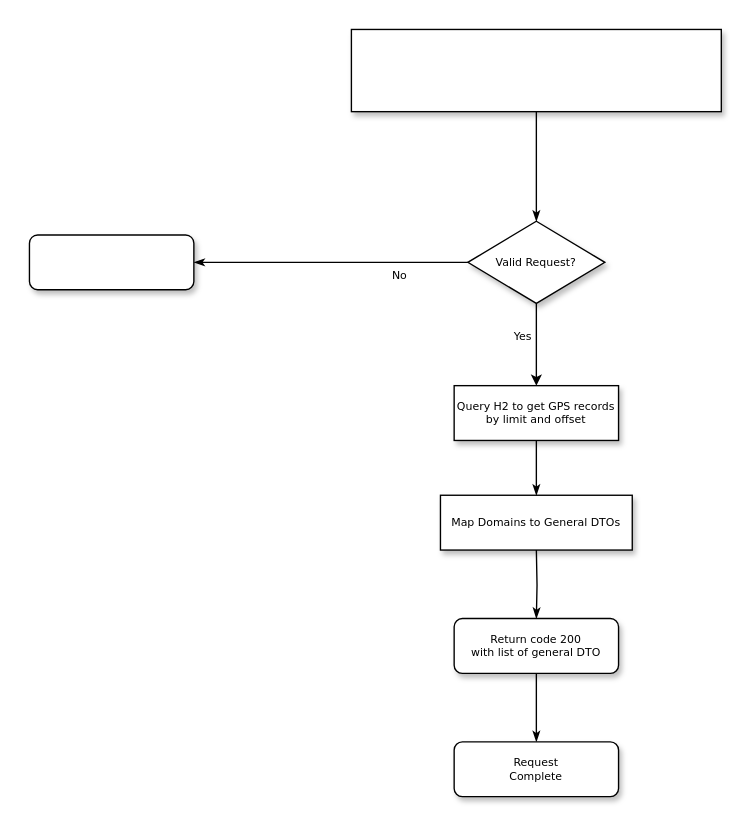
Image size: 754x830. Some labels were removed from this diagram. The centre of each missing label's shape, as x and y in pixels:
"API Endpoint GET /gpx/latest?pageSize=${pageSize}&offset=${offset}" belongs at [537,72].
"Return code 400" belongs at [112,263].
